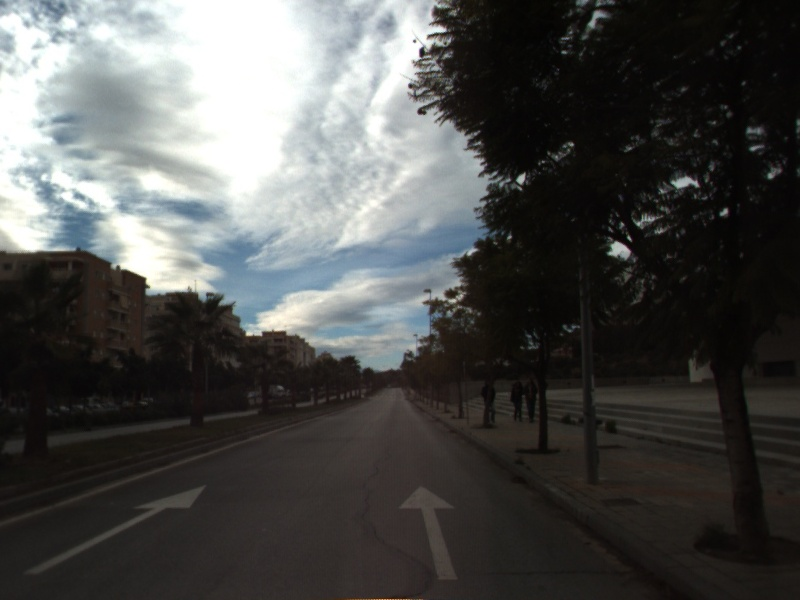STRAIGHT: (21, 483, 209, 577), (396, 483, 461, 582)
